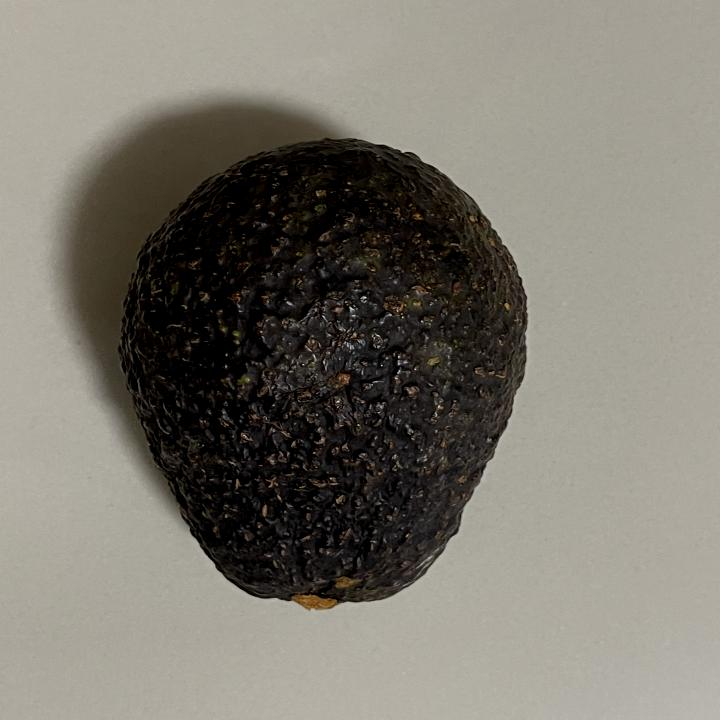Level2: (110, 135, 540, 622)
